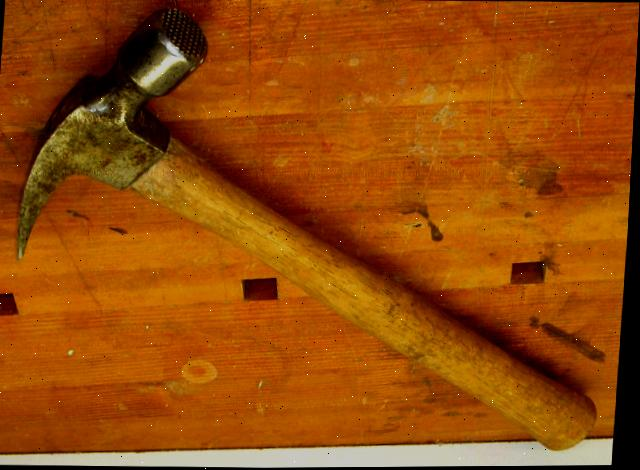hammer: (0, 0, 631, 463)
